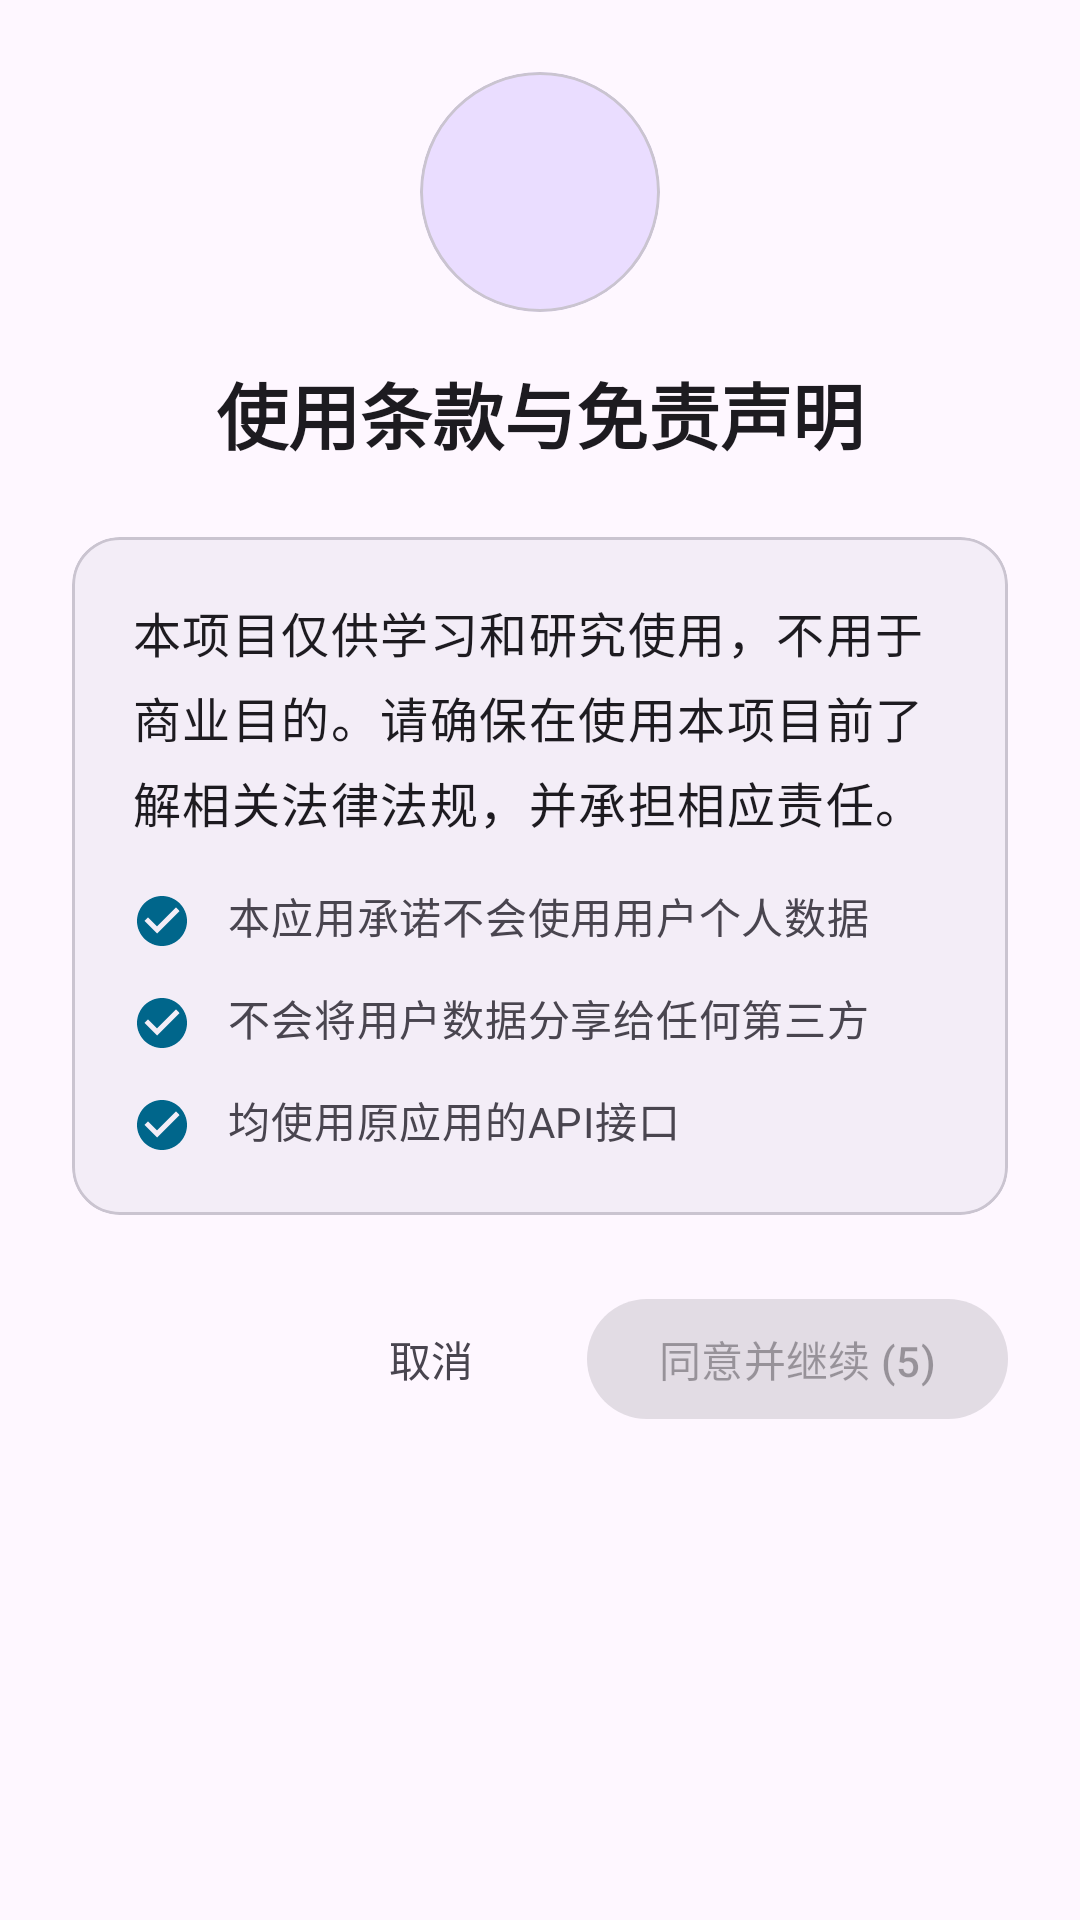

Named icons in this screenshot (1080px×1920px) and their centers, [x,y]:
check circle: [162,921], [162,1023], [162,1125]
